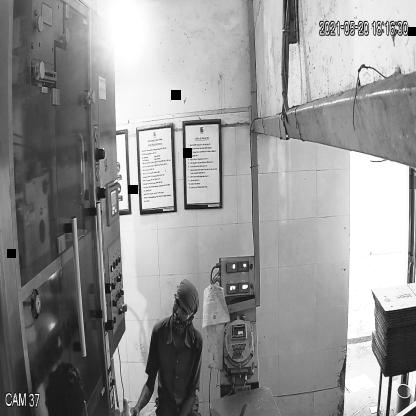goggles: (172, 294, 195, 321)
